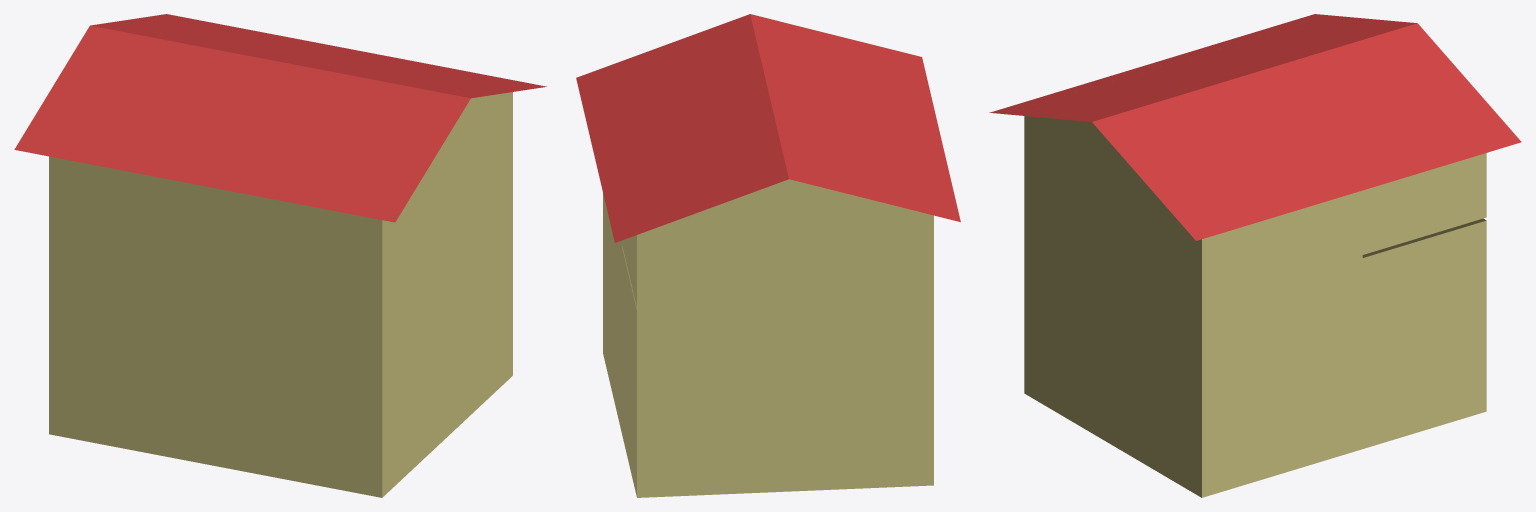
The picture shows the model from 3 angles, left to right: view 1: azimuth 30°, elevation 25°; view 2: azimuth 150°, elevation 25°; view 3: azimuth 270°, elevation 25°; orthographic projection. The views are drawn at different scales.
Bounding box in the file's own units: 15.55 × 15.86 × 10.83.
